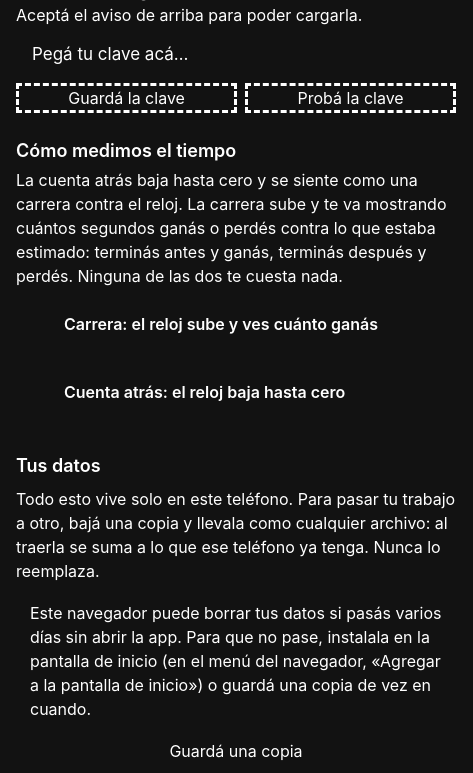
Test case: en Ajustes, si guardar falla, el aviso aparece en la sección que se tocó
(page scrolled)
Click the radio button labelled "Cuenta atrás: el reloj baja hasta cero" at {"x": 205, "y": 392}, box [64,382,345,402]
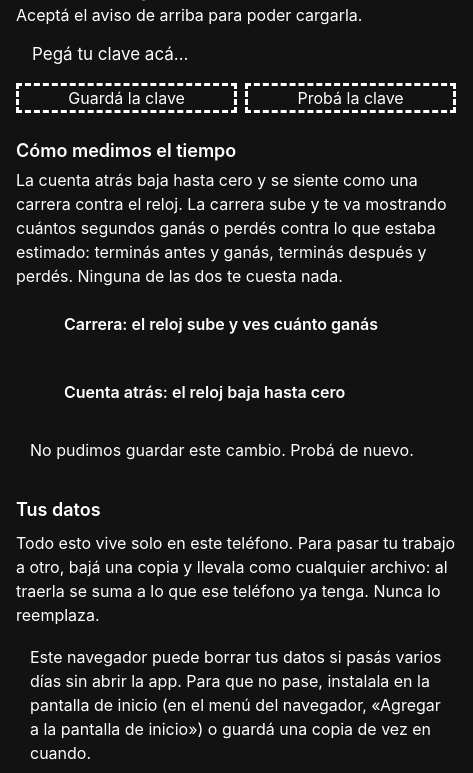
Now the element "cuenta atrás" shows "no pudimos guardar este cambio", box [30,440,414,460]
